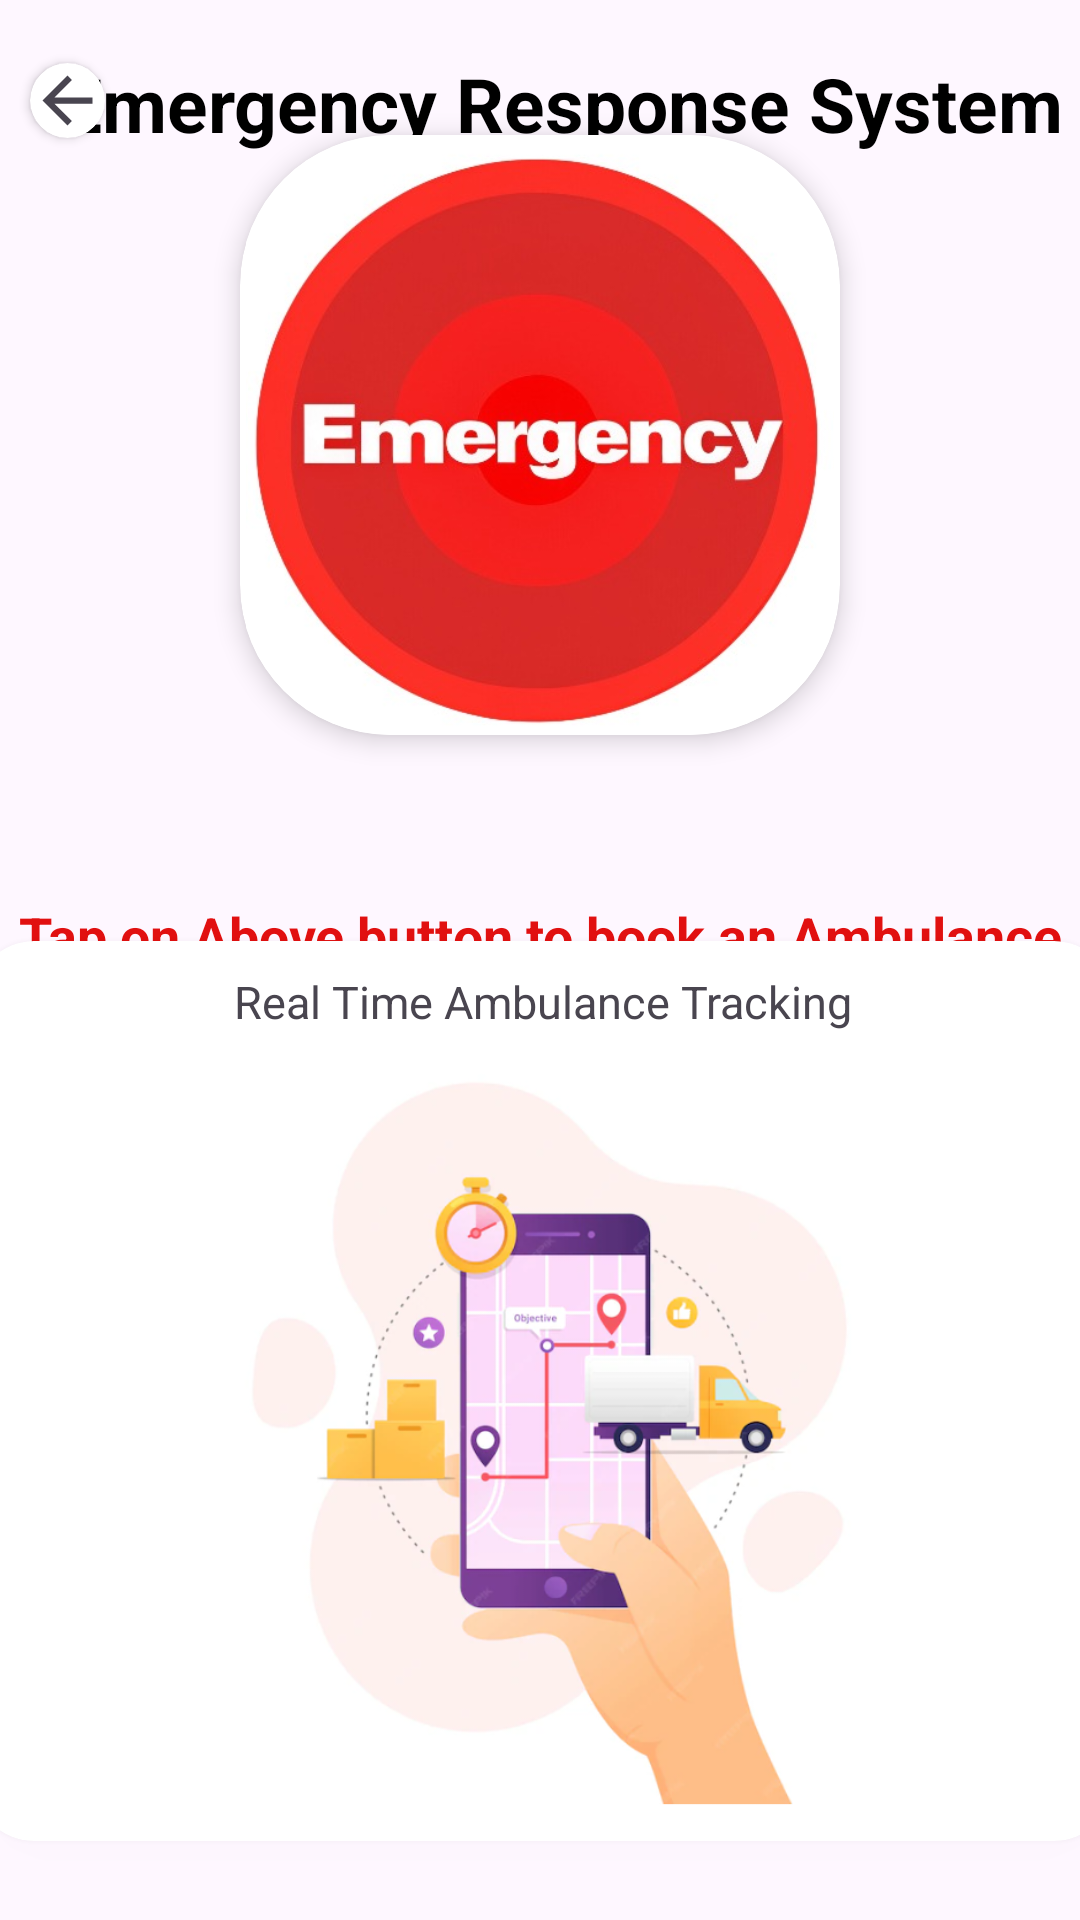

Icon click points for this 1080*1920 phone screenshot, format point (x, y):
backbutton: point (67, 100)
